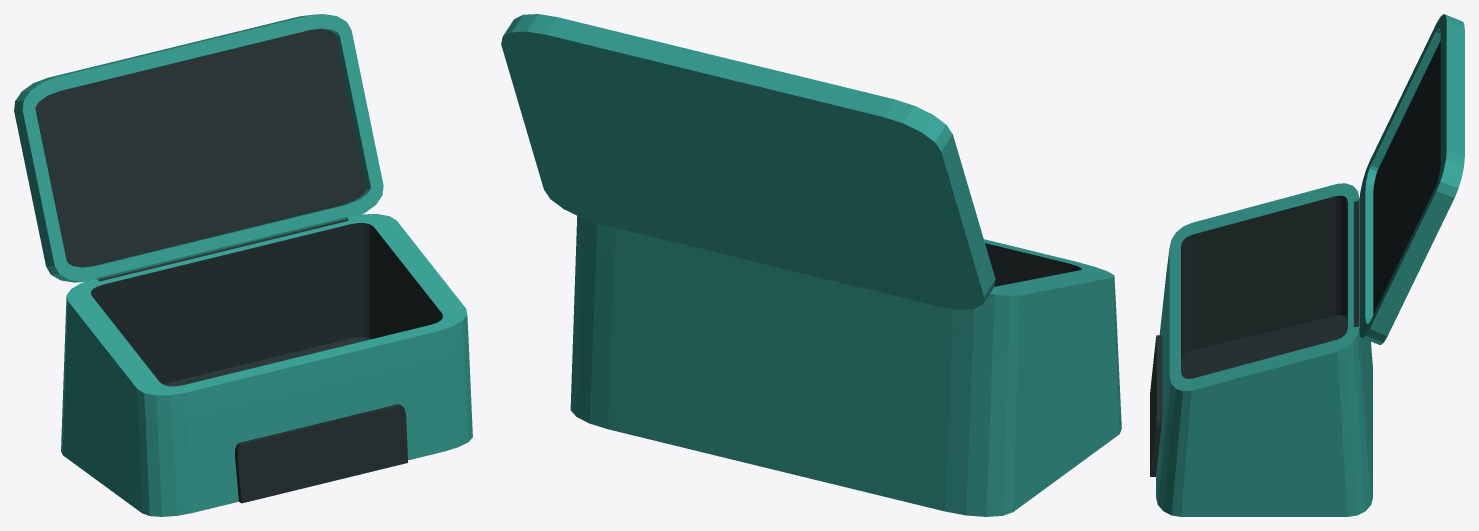
File: Composter.fbx
3 renders of one model, left to right at view 1: azimuth 30°, elevation 25°; view 2: azimuth 150°, elevation 25°; view 3: azimuth 270°, elevation 25°, orthographic. The views are drawn at different scales.
Parts seen in each view (by area): view 1: Plane.001; view 2: Plane.001; view 3: Plane.001.
Boxes of the visible parts, x1,y1,x2,y2 form: Plane.001: (14, 14, 472, 516); Plane.001: (501, 14, 1121, 516); Plane.001: (1150, 14, 1464, 516).
Size of the model in its own units: 748 by 718 by 588.
